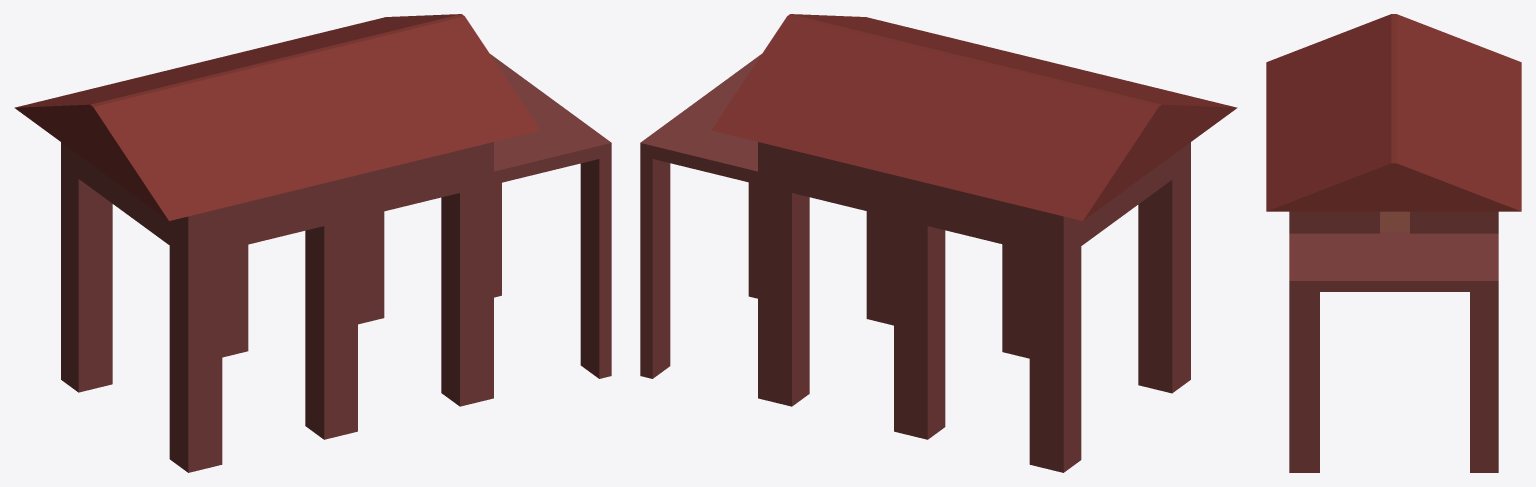
File: FishHut1.fbx
3 renders of one model, left to right at view 1: azimuth 30°, elevation 25°; view 2: azimuth 150°, elevation 25°; view 3: azimuth 270°, elevation 25°, orthographic. The views are drawn at different scales.
Parts seen in each view (by area): view 1: Cube; view 2: Cube; view 3: Cube.
Boxes of the visible parts, x1=… form: Cube: x1=14, y1=14, x2=611, y2=472; Cube: x1=640, y1=14, x2=1237, y2=472; Cube: x1=1266, y1=14, x2=1521, y2=472.
Size of the model in its own units: 340 by 239 by 200.
